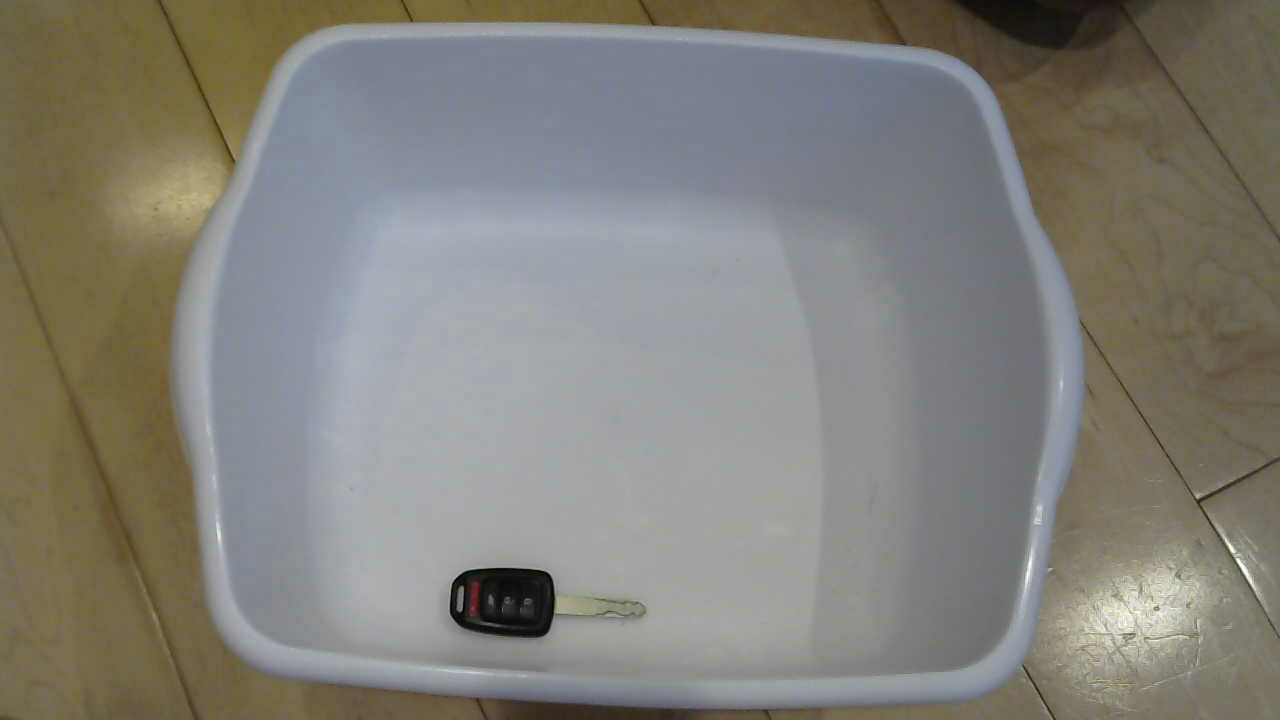key: (453, 566, 679, 662)
